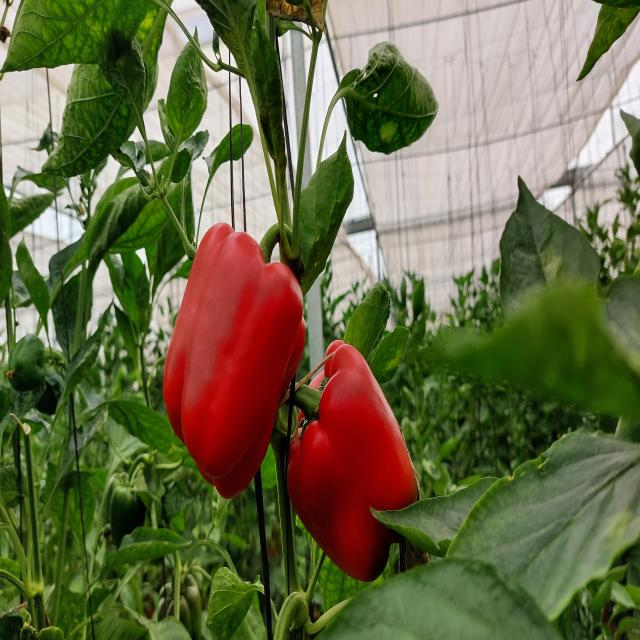Red-Ready-to-Harvest: (162, 216, 296, 494), (292, 339, 415, 585)
